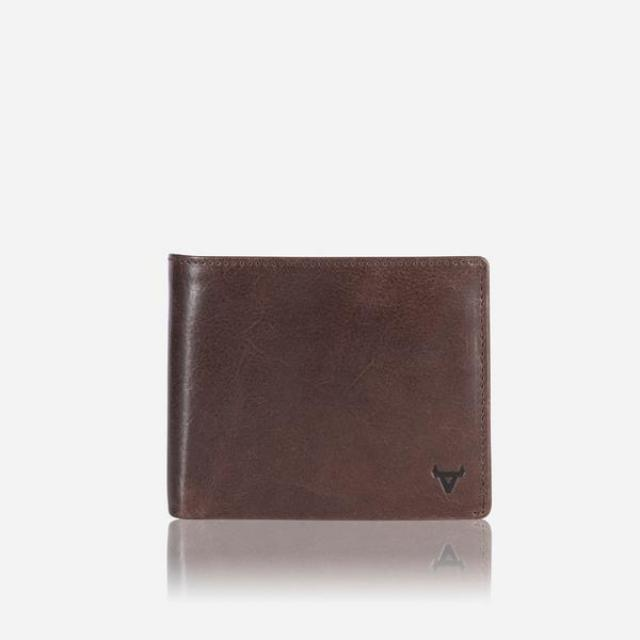wallet: (155, 245, 492, 525)
